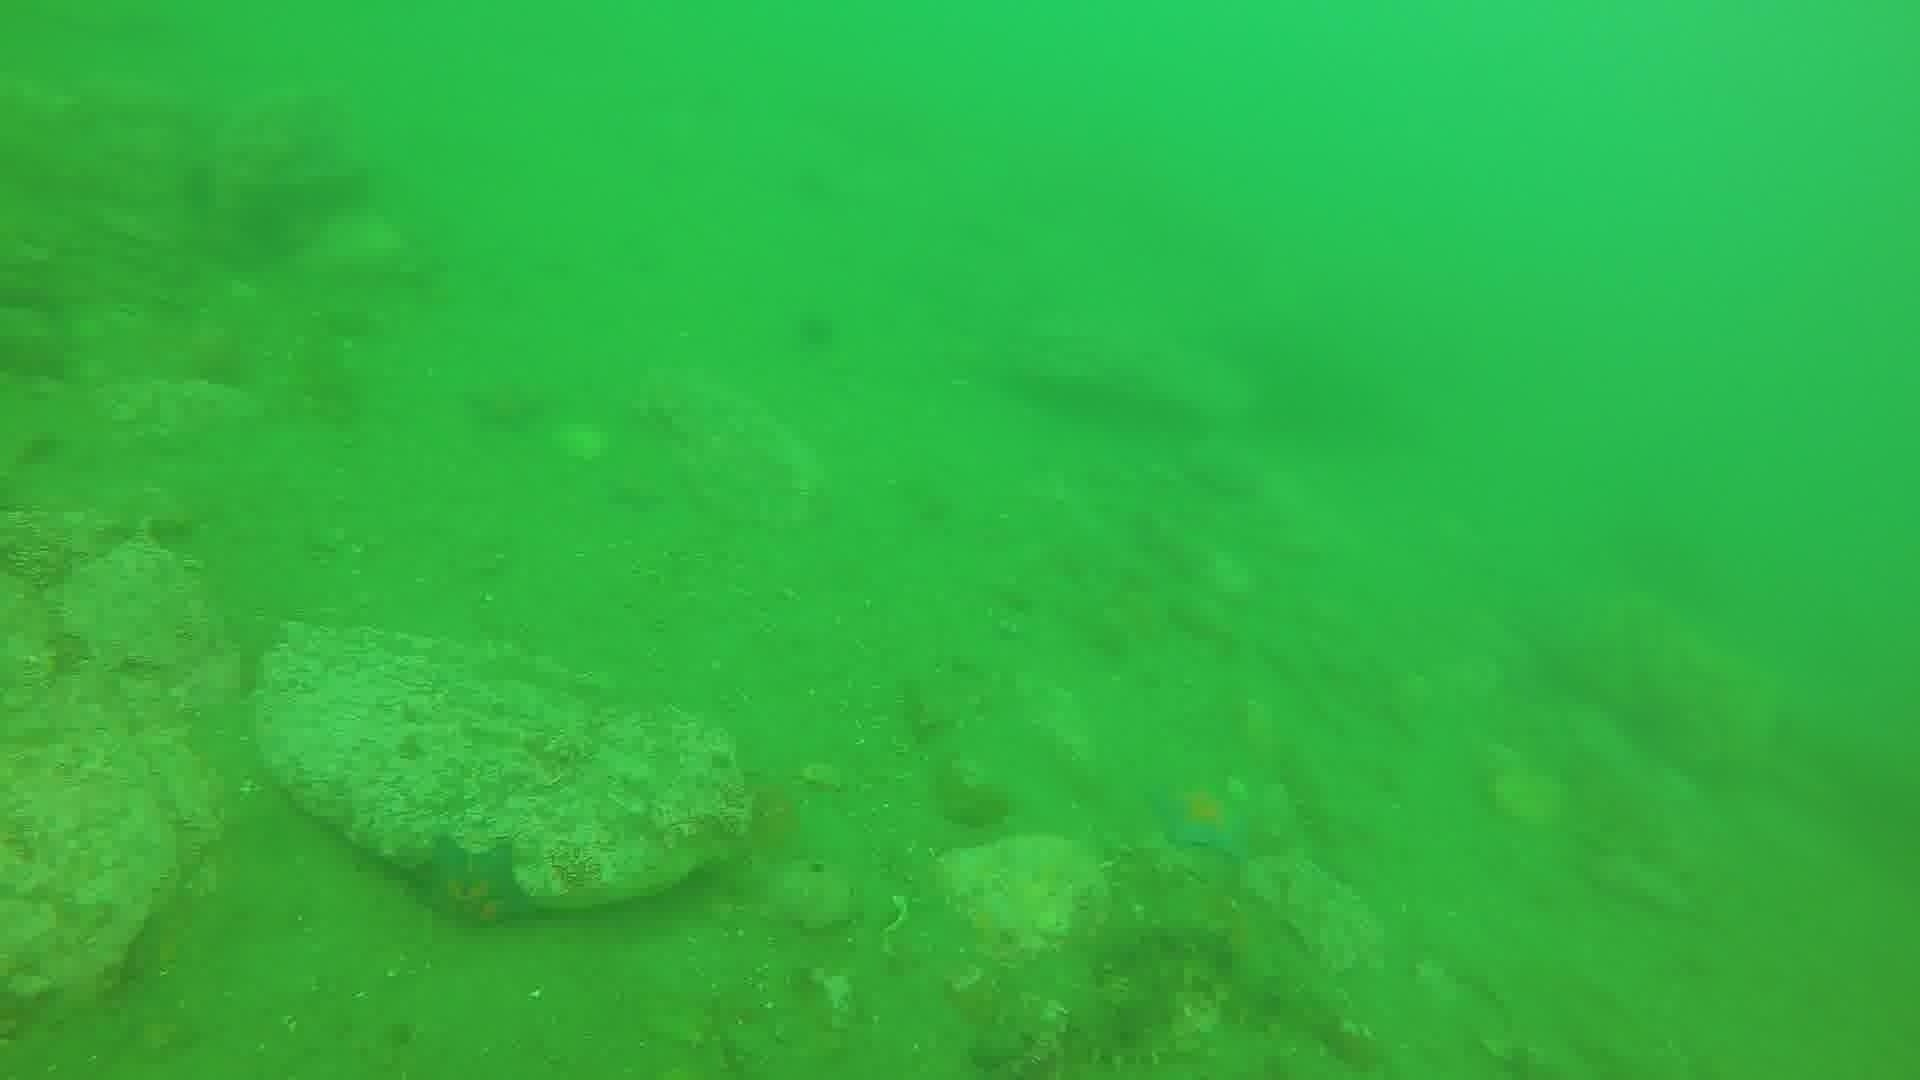holothurian: (1069, 916, 1284, 1062)
starfish: (400, 829, 546, 934), (1145, 771, 1269, 865), (459, 371, 553, 436)
